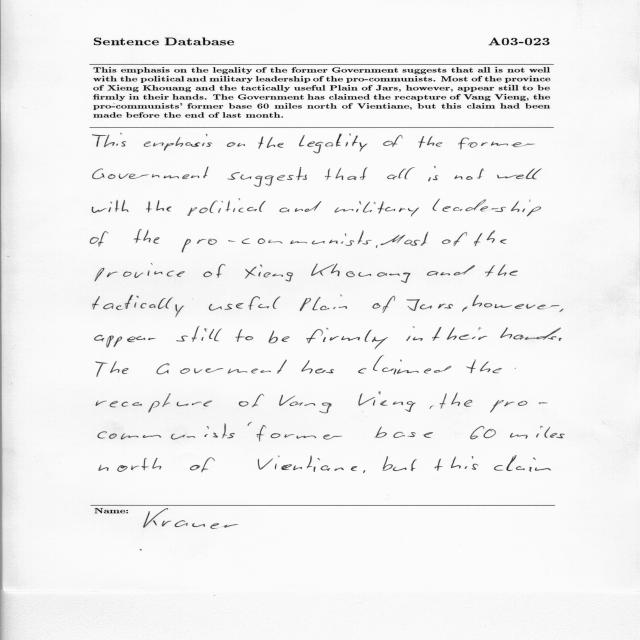word: (182, 231, 372, 253), (98, 422, 252, 440), (96, 394, 212, 413), (93, 295, 184, 317), (311, 263, 411, 283), (156, 360, 287, 375), (433, 199, 541, 217), (358, 356, 451, 375), (306, 328, 388, 349), (258, 455, 357, 472), (95, 264, 185, 282), (227, 167, 307, 187), (93, 166, 209, 179), (188, 198, 266, 216), (299, 134, 367, 154), (257, 425, 342, 441), (335, 201, 419, 216), (472, 295, 560, 309), (358, 392, 416, 412), (144, 134, 212, 151), (209, 296, 280, 311), (494, 455, 551, 472), (279, 395, 332, 413), (99, 458, 161, 472), (458, 138, 535, 149), (245, 265, 293, 282), (95, 335, 156, 348), (500, 327, 561, 340), (433, 327, 488, 341), (300, 295, 347, 311), (176, 326, 222, 342), (374, 426, 433, 438), (510, 426, 564, 439), (490, 400, 548, 412), (381, 232, 429, 246), (435, 456, 478, 471), (406, 299, 453, 311), (325, 167, 367, 180), (474, 231, 507, 247), (427, 265, 475, 276), (96, 361, 129, 377), (382, 456, 417, 471), (440, 393, 472, 409), (497, 168, 541, 179), (92, 200, 129, 213), (92, 133, 126, 147), (466, 360, 502, 373), (280, 201, 322, 212), (302, 360, 335, 374), (485, 264, 518, 277), (134, 229, 160, 244), (190, 458, 215, 473), (373, 296, 395, 313), (387, 167, 415, 180), (442, 232, 467, 246), (455, 168, 484, 180), (258, 136, 284, 149), (470, 426, 496, 439), (146, 200, 171, 213), (239, 394, 264, 407), (204, 264, 226, 278), (90, 231, 109, 247), (418, 136, 443, 148), (269, 331, 290, 344), (406, 326, 423, 341), (383, 135, 403, 147), (236, 329, 254, 342), (428, 167, 438, 182), (227, 142, 245, 147), (462, 306, 468, 312), (560, 309, 564, 312), (559, 338, 562, 341), (430, 406, 433, 409), (376, 245, 378, 248), (364, 470, 366, 473)
